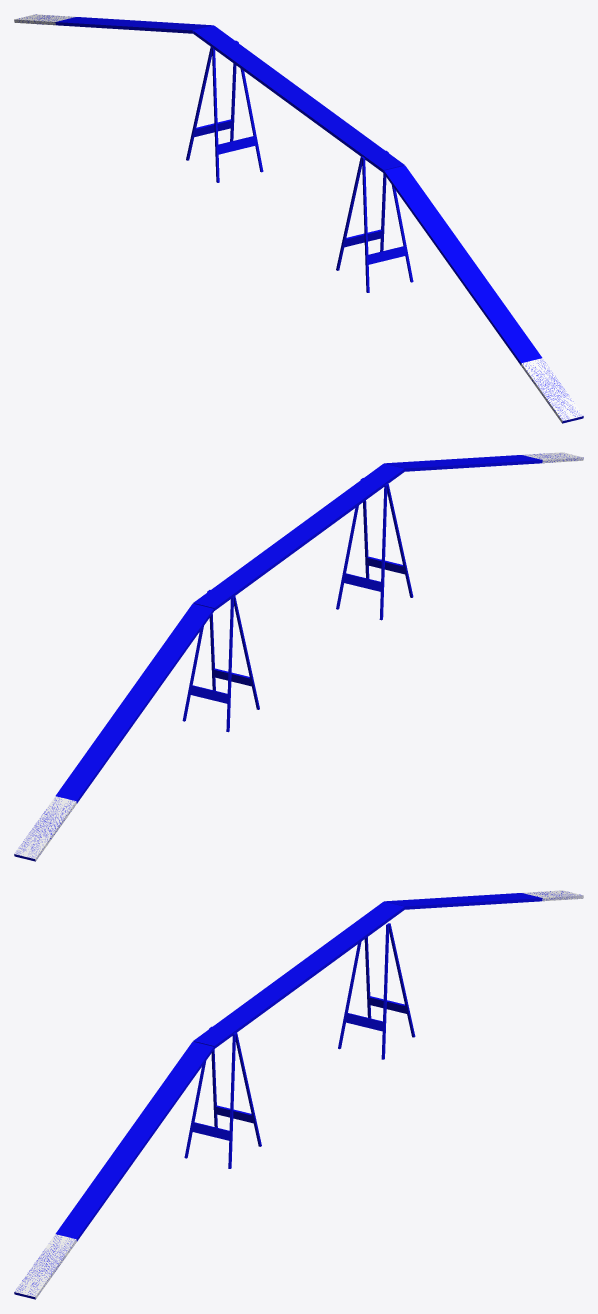
The model's file is Contact-2.dae.
3 views of the same model, one above another, from view 1: azimuth 30°, elevation 25°; view 2: azimuth 150°, elevation 25°; view 3: azimuth 330°, elevation 25° (orthographic).
Visible parts, largest first — view 1: ramp (×3), ramp_1, leg (×2); view 2: ramp (×3), ramp_1, leg (×2); view 3: ramp (×3), ramp_1, leg (×2).
Boxes of the visible parts, x1=… form: ramp (×3): x1=55, y1=17, x2=583, y2=423; ramp_1: x1=193, y1=25, x2=404, y2=172; leg (×2): x1=212, y1=47, x2=369, y2=292; ramp (×3): x1=14, y1=455, x2=542, y2=861; ramp_1: x1=193, y1=463, x2=404, y2=610; leg (×2): x1=226, y1=484, x2=387, y2=732; ramp (×3): x1=14, y1=893, x2=542, y2=1299; ramp_1: x1=193, y1=901, x2=404, y2=1048; leg (×2): x1=228, y1=924, x2=389, y2=1168.
Bounding box in the file's own units: 22.44 × 448 × 55.96.
